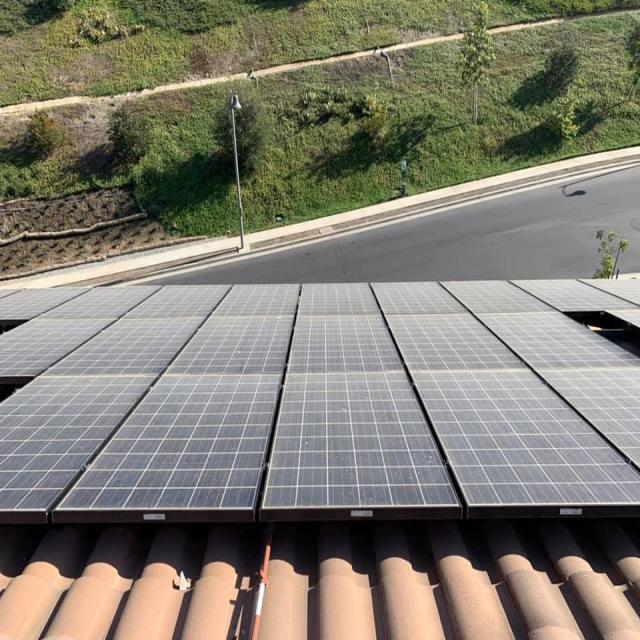dust-solar-panel: (0, 274, 640, 512)
